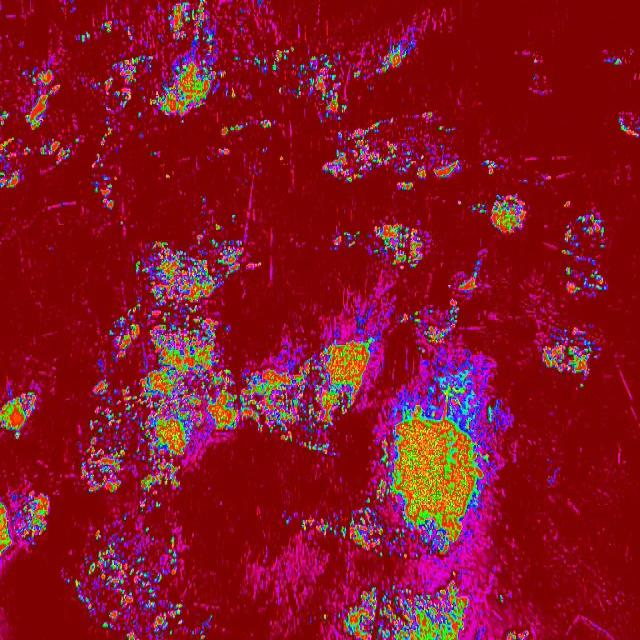fire: (88, 327, 382, 441), (384, 356, 498, 559), (66, 525, 185, 640), (113, 238, 250, 326), (152, 0, 228, 120), (322, 126, 466, 182), (338, 580, 469, 640), (559, 212, 610, 298), (132, 440, 191, 512), (290, 52, 348, 124), (0, 486, 51, 550), (540, 325, 602, 374), (398, 301, 462, 344), (371, 221, 425, 269), (78, 442, 128, 492), (22, 64, 59, 130), (105, 55, 152, 106), (470, 192, 527, 234), (338, 506, 383, 556), (375, 28, 420, 76), (0, 388, 41, 440), (0, 136, 31, 190), (452, 258, 483, 294), (298, 514, 338, 538), (40, 136, 73, 165), (91, 175, 115, 209), (331, 225, 359, 254), (251, 51, 289, 71), (300, 441, 342, 458), (190, 616, 218, 640), (616, 113, 638, 138), (364, 480, 383, 506), (98, 116, 114, 146), (502, 626, 532, 640), (216, 124, 247, 136), (605, 53, 625, 69), (483, 158, 503, 174), (91, 150, 105, 169), (372, 114, 398, 124), (260, 116, 278, 130), (100, 17, 114, 34), (74, 31, 92, 44), (418, 112, 438, 123), (0, 106, 10, 126), (280, 514, 294, 528), (415, 342, 428, 357), (124, 28, 136, 42), (215, 146, 230, 156), (398, 182, 416, 190), (320, 611, 330, 624), (564, 197, 572, 213), (232, 54, 242, 64), (200, 194, 208, 206), (532, 56, 541, 66), (228, 87, 236, 98), (230, 214, 238, 225), (150, 150, 159, 159), (450, 570, 458, 580), (498, 594, 506, 604), (214, 223, 222, 233), (278, 154, 286, 164), (136, 110, 144, 119), (352, 71, 361, 79), (92, 80, 100, 88), (164, 172, 172, 180), (178, 117, 186, 125), (522, 178, 529, 187), (74, 136, 80, 146), (238, 25, 244, 35), (259, 147, 267, 154), (122, 515, 128, 524), (580, 382, 586, 389), (381, 455, 386, 463), (120, 220, 124, 228), (245, 58, 249, 66), (457, 200, 462, 206), (290, 44, 294, 50)
